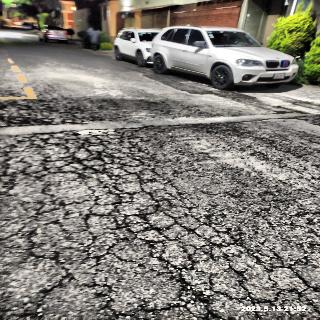alligator-crack: (76, 206, 269, 316), (31, 134, 193, 202), (261, 253, 320, 320)
crack: (0, 202, 81, 320), (192, 176, 291, 223), (263, 93, 320, 140), (270, 194, 320, 242), (4, 147, 41, 207), (2, 104, 70, 136)
